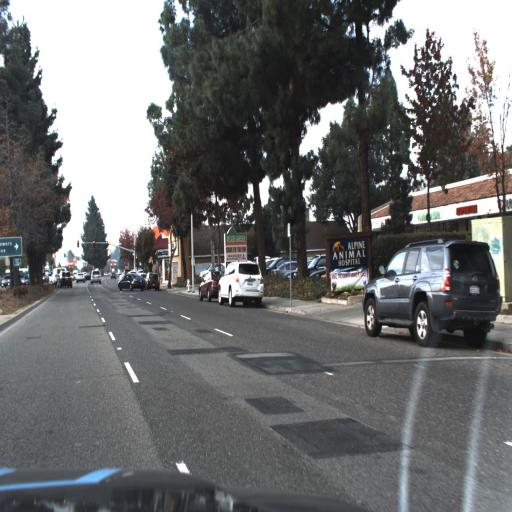car: (358, 234, 505, 342), (216, 255, 266, 306), (197, 265, 220, 307), (114, 270, 151, 295), (266, 258, 303, 279), (302, 251, 331, 275), (58, 266, 76, 290), (144, 269, 162, 292), (89, 265, 106, 287)
